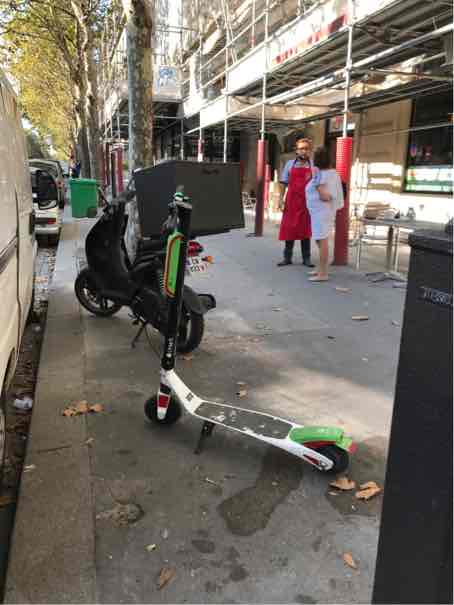scooter: (131, 189, 354, 484)
